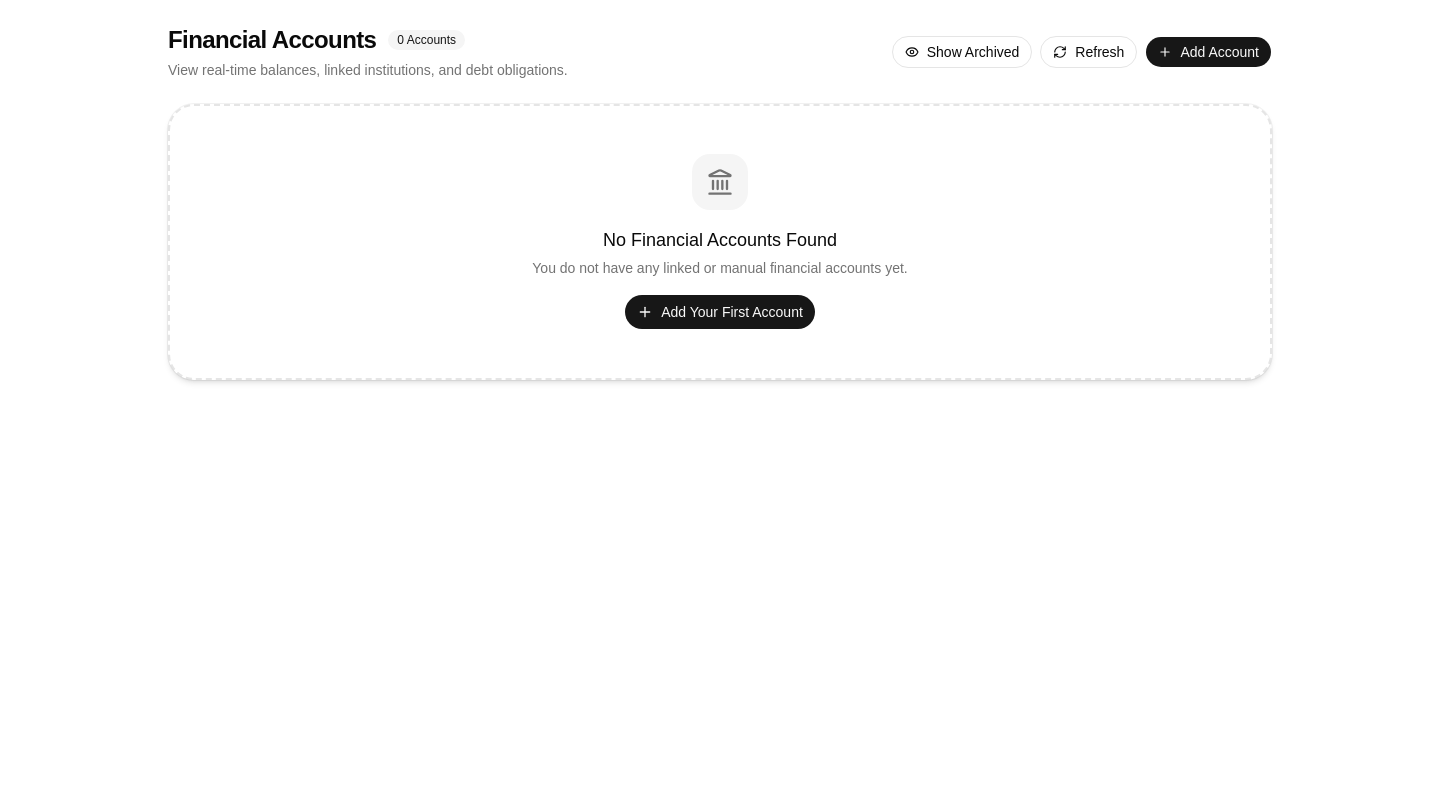
Test: AccountsPage › 16. displays server error in form on failed submission
Click the button with test id "add-account-btn": x=1209, y=52 [1145,36,1272,68]
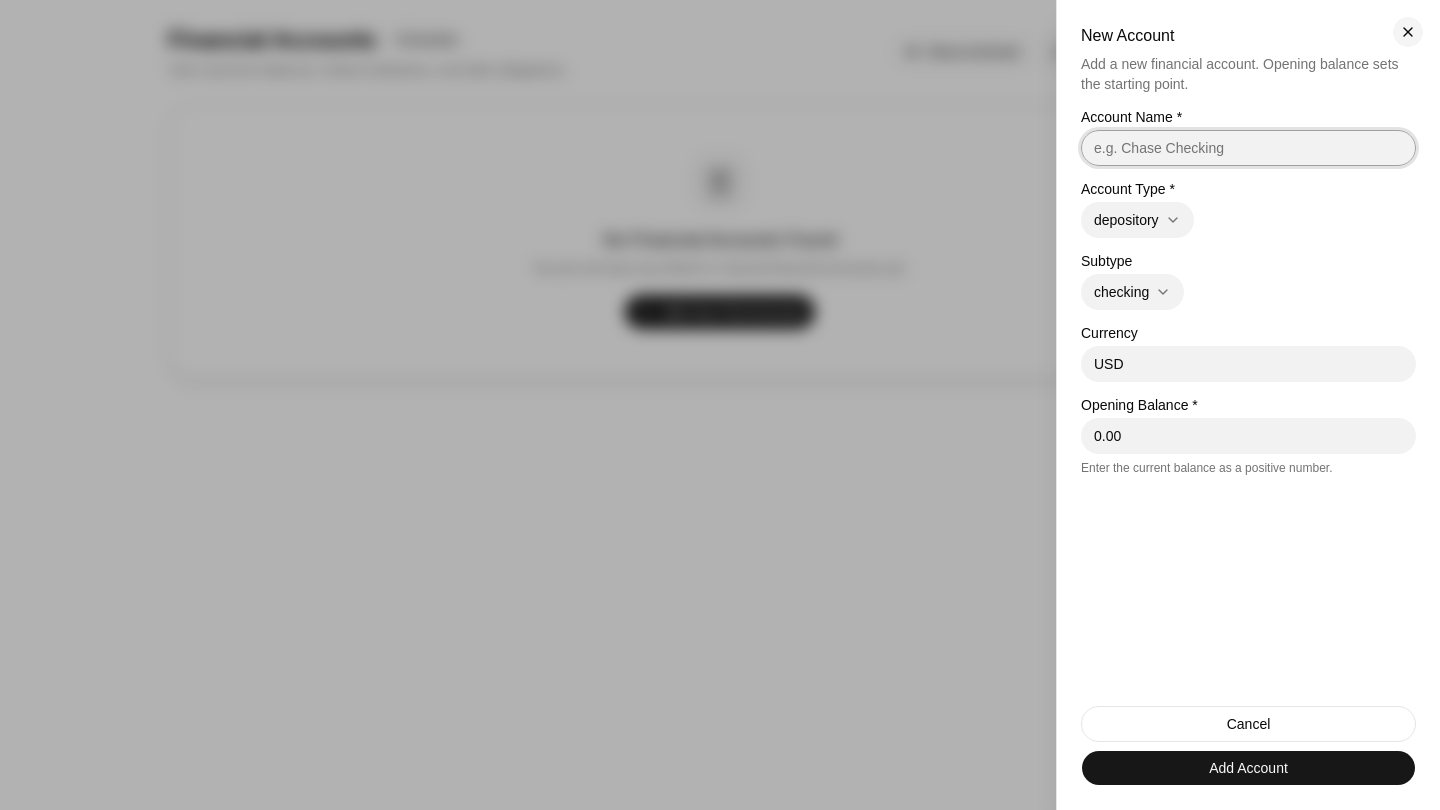
Expected: the dialog with test id "account-form-sheet" is shown, [1056,0,1439,809]
In the field with test id "account-name-input": x=1248, y=148 [1081,130,1416,166], type "Test Account"
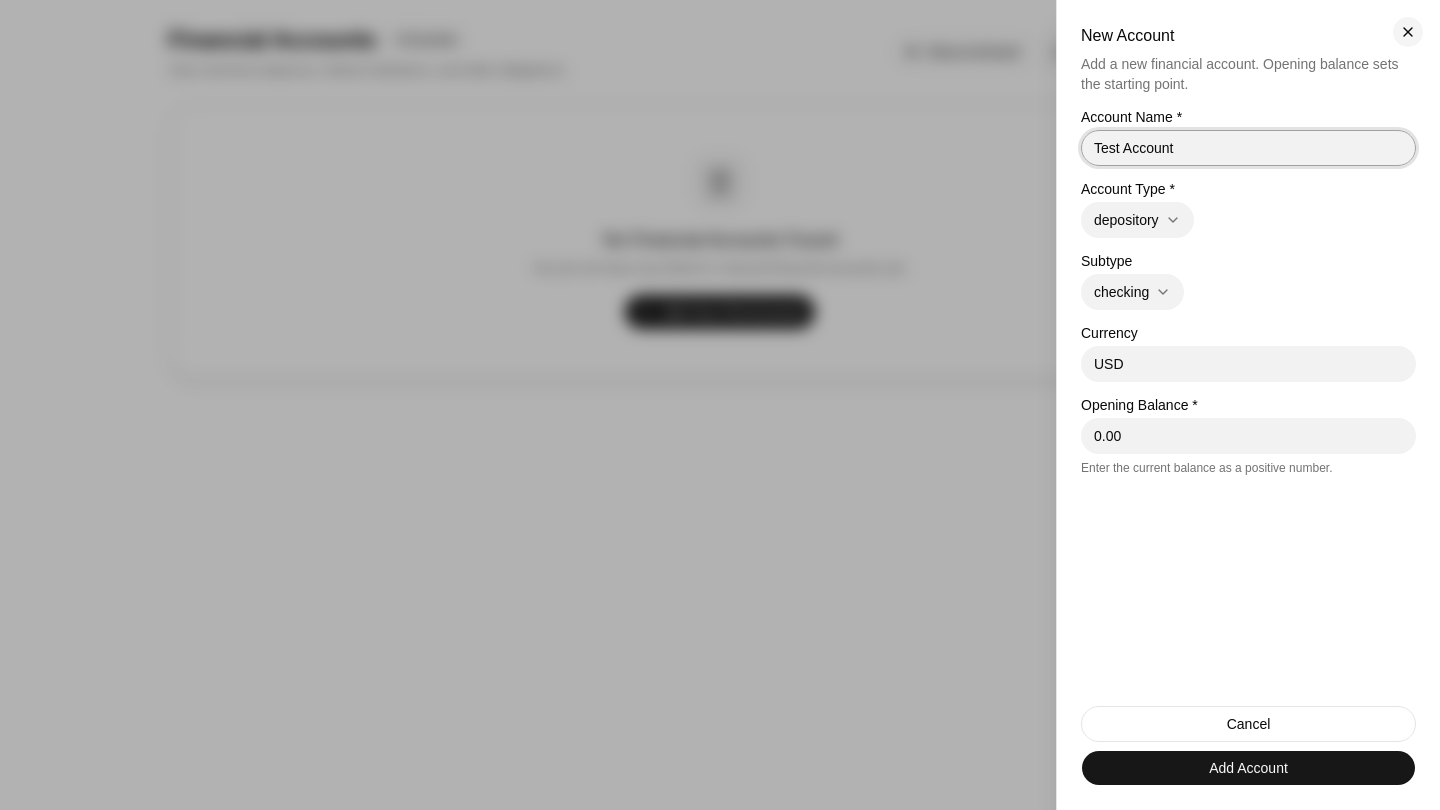
In the field with test id "account-balance-input": x=1248, y=436 [1081,418,1416,454], type "100.00"
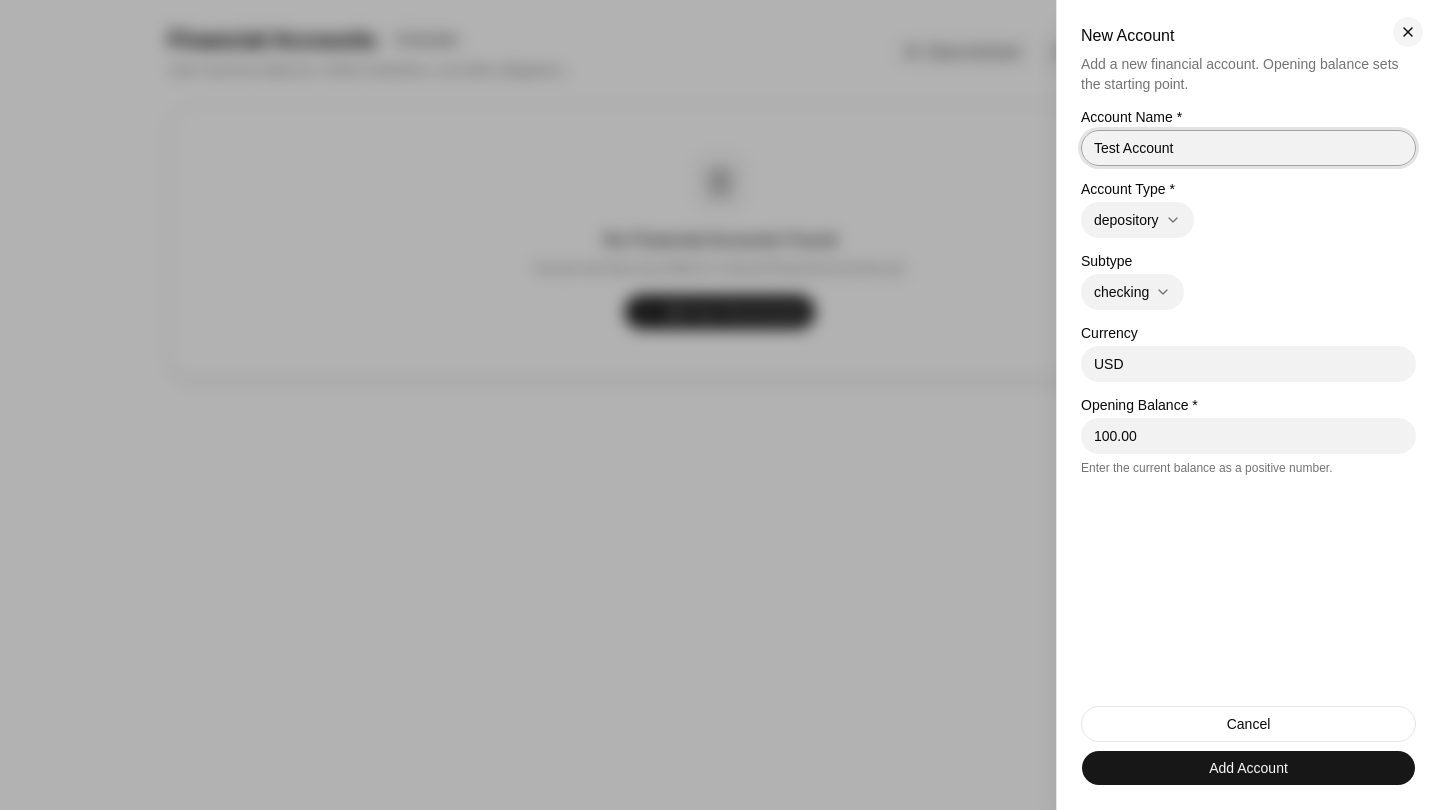
Click the button with test id "account-form-submit": x=1248, y=768 [1081,750,1416,786]
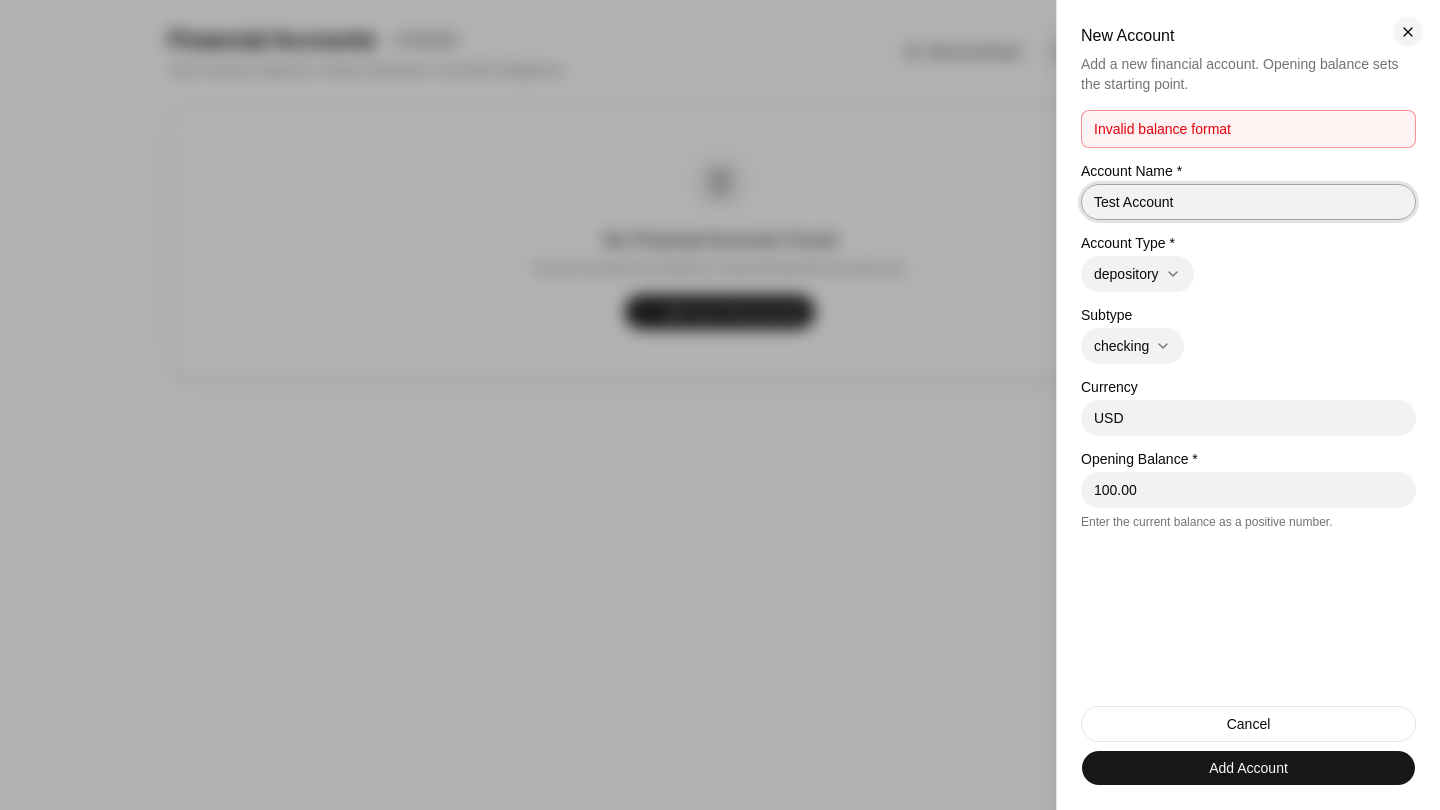
Expected: the text "Invalid balance format" is shown, [1081,110,1416,148]
